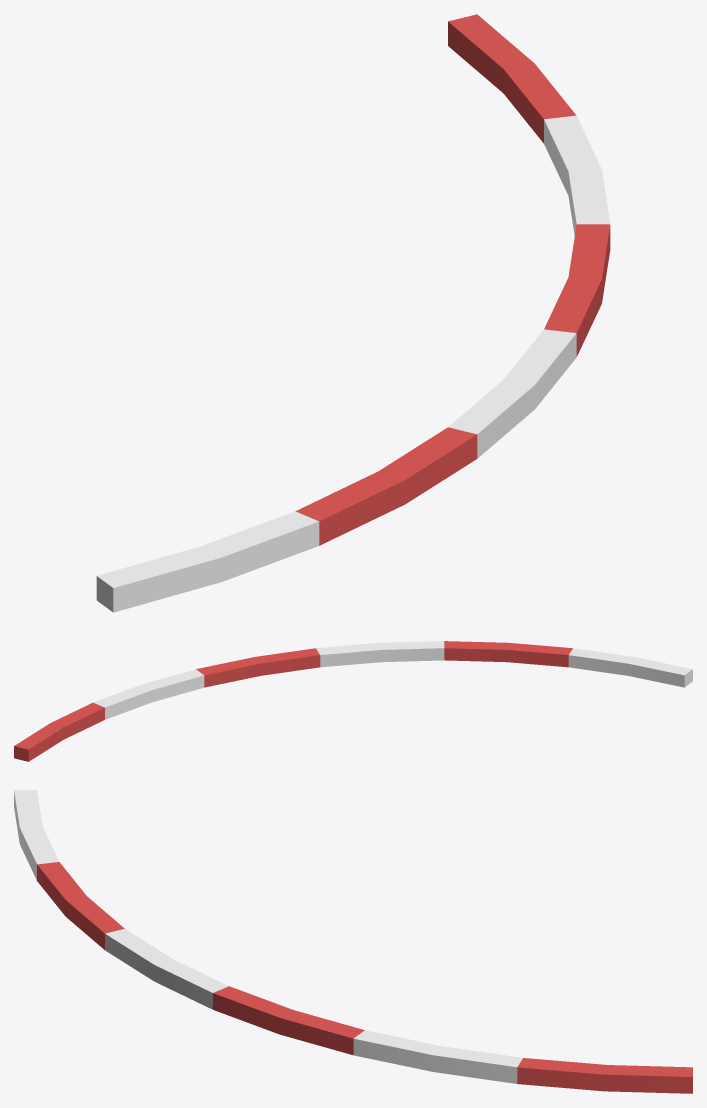
Rendered from roadCornerLargerWallInner.obj.
The picture shows the model from 3 angles, top to bottom: view 1: azimuth 30°, elevation 25°; view 2: azimuth 150°, elevation 25°; view 3: azimuth 270°, elevation 25°; orthographic projection. The views are drawn at different scales.
Visible parts, largest first — view 1: roadCornerLargerWallInner; view 2: roadCornerLargerWallInner; view 3: roadCornerLargerWallInner.
Boxes of the visible parts, <box> form: roadCornerLargerWallInner: <box>96,14,610,612</box>; roadCornerLargerWallInner: <box>14,641,692,761</box>; roadCornerLargerWallInner: <box>14,790,692,1093</box>.
Size of the model in its own units: 1.47 by 0.04 by 1.47.
